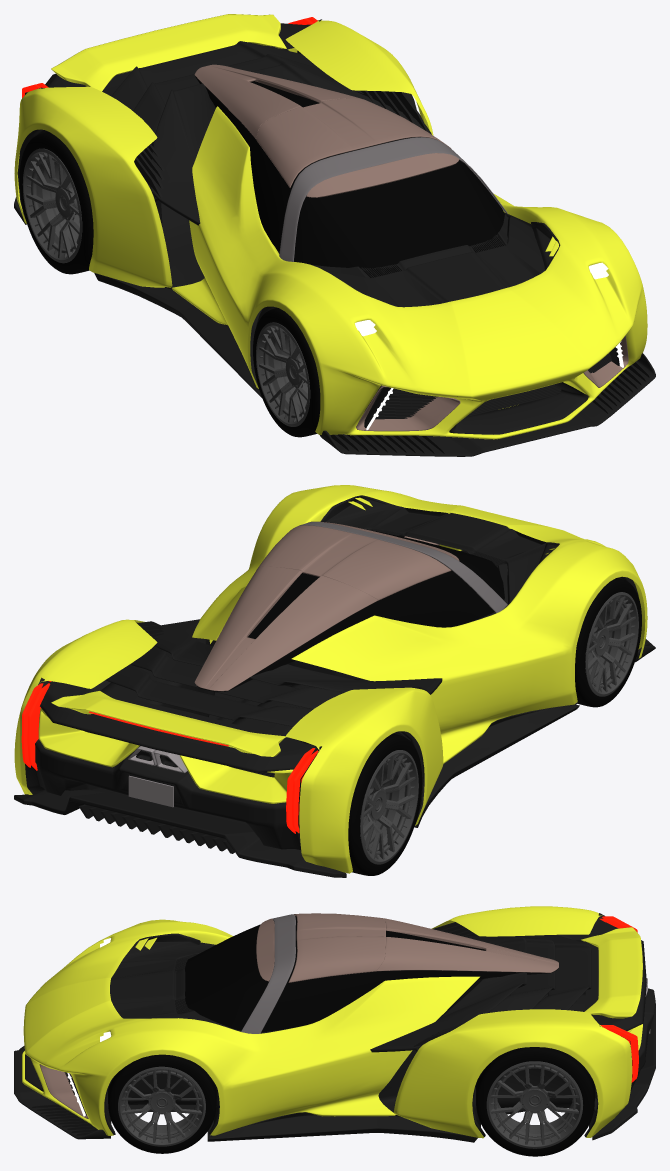
File: concept_sport_car.glb
3 views of the same model, one above another, from view 1: azimuth 30°, elevation 25°; view 2: azimuth 150°, elevation 25°; view 3: azimuth 270°, elevation 25° (orthographic). The views are drawn at different scales.
Parts seen in each view (by area): view 1: Frente - Body.003_26, CAixa Roda traseira_2, Frente - Body.001_24, Plane.001_33, Frente - Body.004_27, Teto.003_85, spoiler_83, Plane.003_35, Aro externo.001_0, Teto.004_86, Coluna prata_6, Aro externo.006_1 (+12 smaller); view 2: Frente - Body.003_26, CAixa Roda traseira_2, CAixa Roda traseira.001_3, Plane.001_33, Teto.004_86, Teto.003_85, Frente - Body.001_24, Frente - Body.004_27, Plane.006_38, CAixa Roda traseira.002_4, Aro externo.001_0, spoiler_83 (+11 smaller); view 3: Frente - Body.003_26, CAixa Roda traseira_2, Frente - Body.001_24, Plane.001_33, Frente - Body.004_27, Teto.003_85, Teto.004_86, Aro externo.001_0, Aro externo.006_1, Plane.005_37, Cylinder.003_22, spoiler_83 (+13 smaller).
Boxes of the visible parts, x1,y1,x2,y2 form: Frente - Body.003_26: (172, 106, 647, 439); CAixa Roda traseira_2: (14, 20, 433, 287); Frente - Body.001_24: (195, 76, 504, 268); Plane.001_33: (111, 41, 431, 225); Frente - Body.004_27: (311, 212, 560, 307); Teto.003_85: (256, 98, 451, 187); spoiler_83: (51, 14, 286, 91); Plane.003_35: (320, 353, 655, 456); Aro externo.001_0: (22, 148, 82, 263); Teto.004_86: (194, 64, 363, 139); Coluna prata_6: (279, 137, 507, 261); Aro externo.006_1: (256, 322, 310, 426); Frente - Body.003_26: (192, 485, 647, 763); CAixa Roda traseira_2: (14, 619, 443, 873); CAixa Roda traseira.001_3: (25, 677, 321, 849); Plane.001_33: (105, 619, 442, 726); Teto.004_86: (194, 566, 377, 691); Teto.003_85: (257, 525, 451, 600); Frente - Body.001_24: (197, 529, 504, 691); Frente - Body.004_27: (320, 495, 559, 607); Plane.006_38: (14, 787, 346, 877); CAixa Roda traseira.002_4: (38, 708, 293, 803); Aro externo.001_0: (360, 750, 418, 864); spoiler_83: (51, 690, 286, 756); Frente - Body.003_26: (22, 919, 479, 1135); CAixa Roda traseira_2: (394, 906, 632, 1138); Frente - Body.001_24: (185, 916, 558, 1032); Plane.001_33: (370, 935, 591, 1052); Frente - Body.004_27: (110, 933, 241, 1031); Teto.003_85: (288, 913, 385, 982); Teto.004_86: (377, 918, 558, 972); Aro externo.001_0: (486, 1061, 583, 1148); Aro externo.006_1: (118, 1066, 205, 1146); Plane.005_37: (129, 1104, 477, 1142); Cylinder.003_22: (476, 1047, 594, 1156); spoiler_83: (581, 927, 642, 1018).
Bounding box in the file's own units: 2.74 × 1.49 × 5.46.
